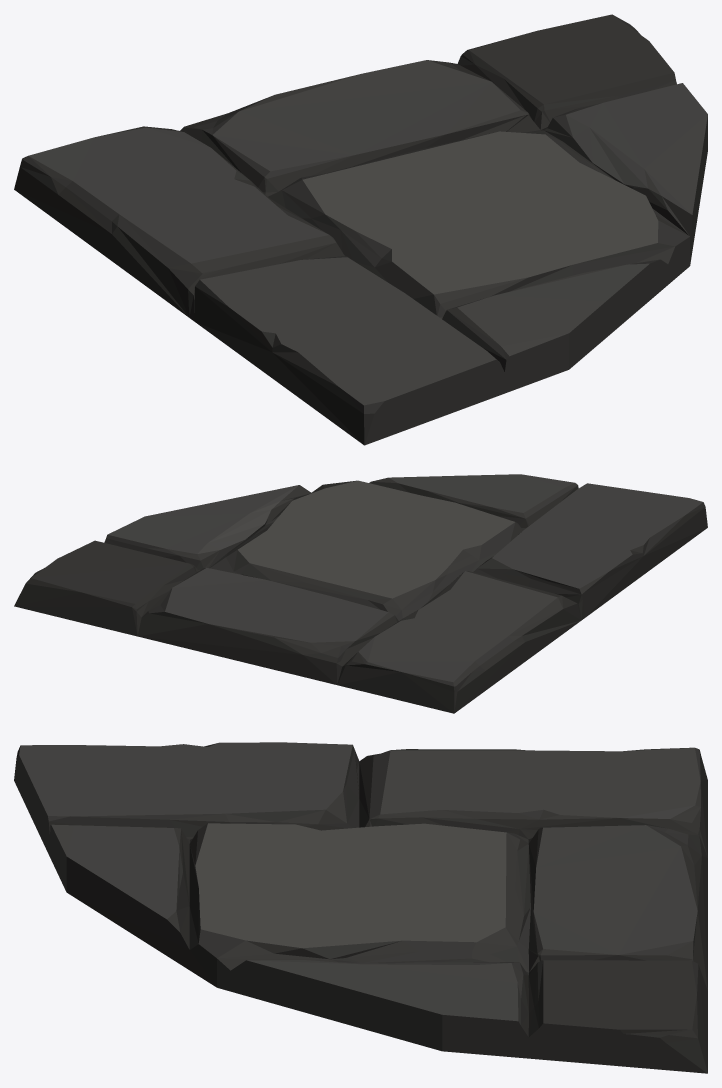
The model's file is SM_Bld_Floor_Round_Tile_01.fbx.
3 views of the same model, one above another, from view 1: azimuth 30°, elevation 25°; view 2: azimuth 150°, elevation 25°; view 3: azimuth 270°, elevation 25° (orthographic). The views are drawn at different scales.
Parts seen in each view (by area): view 1: SM_Bld_Floor_Round_Tile_01; view 2: SM_Bld_Floor_Round_Tile_01; view 3: SM_Bld_Floor_Round_Tile_01.
Part boxes in pixels (x1,y1,x2,y2): SM_Bld_Floor_Round_Tile_01: [14, 14, 707, 445]; SM_Bld_Floor_Round_Tile_01: [14, 474, 707, 713]; SM_Bld_Floor_Round_Tile_01: [14, 742, 707, 1073].
Bounding box in the file's own units: 251 × 15.48 × 250.
Materials: 1 (1 with a texture image).
